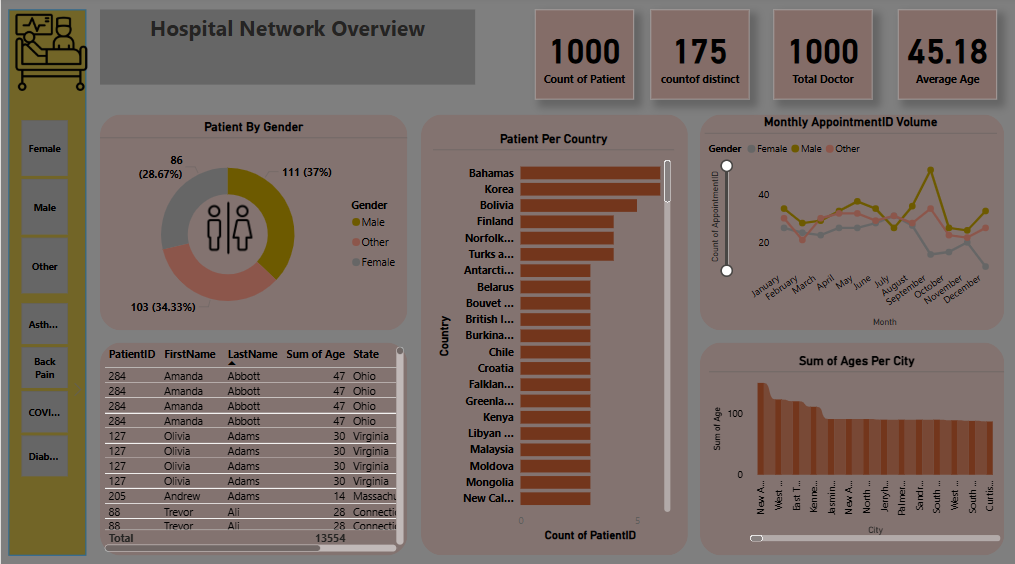

The dashboard page shown, as its layout file describes it:
{"tool":"powerbi","page":{"name":"Page 4","canvas":[1280,720],"ordinal":4},"visuals":[{"type":"shape","box":[9.4,17,98.3,687.9],"z":0},{"type":"card","fields":{"Values":["patient.Average Age"]},"box":[1130.1,17,124.7,113.4],"z":1000},{"type":"card","fields":{"Values":["appointment.Count of Patient"]},"box":[672.8,17,124.7,113.4],"z":2000},{"type":"card","fields":{"Values":["appointment.Total Doctor"]},"box":[973.2,17,124.7,113.4],"z":3000},{"type":"card","fields":{"Values":["patient.countof distinct"]},"box":[818.3,17,124.7,113.4],"z":4000},{"type":"shape","box":[529.1,149.3,336.4,555.6],"z":5000},{"type":"shape","box":[880.6,149.3,383.6,272.1],"z":6000},{"type":"shape","box":[880.6,436.5,383.6,268.3],"z":7000},{"type":"shape","box":[124.7,149.3,387.4,272.1],"z":8000},{"type":"shape","box":[124.7,436.5,387.4,268.3],"z":9000},{"type":"donutChart","title":"Patient By Gender","fields":{"Category":["patient.Gender"],"Y":["CountNonNull(patient.PatientID)"]},"box":[124.7,155,387.4,266.5],"z":10000},{"type":"lineChart","title":"Monthly  AppointmentID Volume","fields":{"Category":["appointment.AppointmentDate.Variation.Date Hierarchy.Month"],"Series":["patient.Gender"],"Y":["CountNonNull(appointment.AppointmentID)"]},"box":[886.3,149.3,368.5,272.1],"z":11000},{"type":"barChart","title":"Patient Per Country","fields":{"Category":["patient.Country"],"Y":["CountNonNull(patient.PatientID)"]},"box":[544.3,170.1,304.3,521.6],"z":12000},{"type":"ribbonChart","title":"Sum of Ages Per City","fields":{"Category":["patient.City"],"Y":["Sum(patient.Age)"]},"box":[892,449.8,372.3,241.9],"z":13000},{"type":"tableEx","fields":{"Values":["patient.PatientID","patient.FirstName","patient.LastName","Sum(patient.Age)","patient.State","appointment.Diagnosis"]},"box":[124.7,436.5,387.4,268.3],"z":14000},{"type":"textbox","box":[107.7,35.9,532.9,94.5],"z":15000},{"type":"slicer","fields":{"Values":["patient.Gender"]},"box":[0,149.3,107.7,232.4],"z":16000},{"type":"slicer","fields":{"Values":["appointment.Diagnosis"]},"box":[0,379.8,107.7,232.4],"z":17000},{"type":"image","box":[9.4,17,107.7,107.7],"z":18000},{"type":"image","box":[243.8,247.6,88.8,88.8],"z":19000}]}

Visuals, with their boxes in screenshot pixels (x1, y1, x2, y2), scaled from the page's 1280x720 canvas onto the 1015x564 screenshot:
shape: l=7, t=13, r=85, b=552
card - patient.Average Age: l=896, t=13, r=995, b=102
card - appointment.Count of Patient: l=534, t=13, r=632, b=102
card - appointment.Total Doctor: l=772, t=13, r=871, b=102
card - patient.countof distinct: l=649, t=13, r=748, b=102
shape: l=420, t=117, r=686, b=552
shape: l=698, t=117, r=1002, b=330
shape: l=698, t=342, r=1002, b=552
shape: l=99, t=117, r=406, b=330
shape: l=99, t=342, r=406, b=552
"Patient By Gender" donutChart: l=99, t=121, r=406, b=330
"Monthly  AppointmentID Volume" lineChart: l=703, t=117, r=995, b=330
"Patient Per Country" barChart: l=432, t=133, r=673, b=542
"Sum of Ages Per City" ribbonChart: l=707, t=352, r=1003, b=542
tableEx - patient.PatientID x patient.FirstName: l=99, t=342, r=406, b=552
textbox: l=85, t=28, r=508, b=102
slicer - patient.Gender: l=0, t=117, r=85, b=299
slicer - appointment.Diagnosis: l=0, t=298, r=85, b=480
image: l=7, t=13, r=93, b=98
image: l=193, t=194, r=264, b=264
